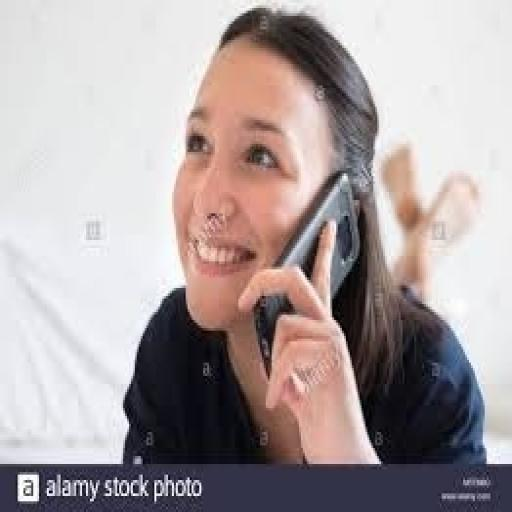calling: (119, 2, 489, 466)
